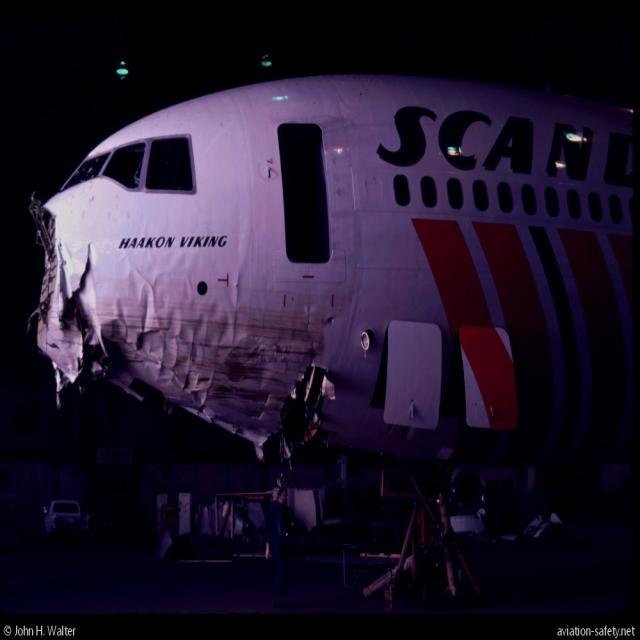crack: (30, 200, 103, 397), (275, 364, 341, 459)
dent: (123, 279, 290, 439)
